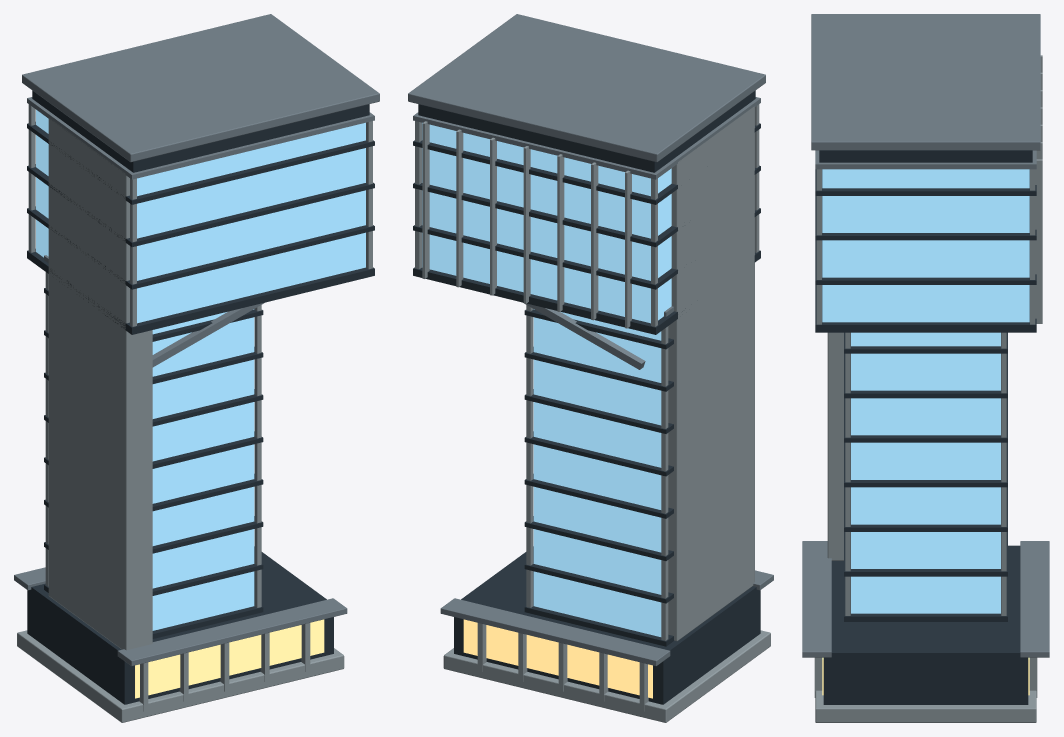
File: vrx_city_exchange_a_LOD0.fbx
The picture shows the model from 3 angles, left to right: view 1: azimuth 30°, elevation 25°; view 2: azimuth 150°, elevation 25°; view 3: azimuth 270°, elevation 25°; orthographic projection. The views are drawn at different scales.
Visible parts, largest first — view 1: vrx_city_exchange_a_LOD0; view 2: vrx_city_exchange_a_LOD0; view 3: vrx_city_exchange_a_LOD0.
Boxes of the visible parts, x1,y1,x2,y2 form: vrx_city_exchange_a_LOD0: [14, 14, 379, 722]; vrx_city_exchange_a_LOD0: [408, 14, 773, 722]; vrx_city_exchange_a_LOD0: [802, 14, 1049, 722].
Size of the model in its own units: 38 by 80.6 by 30.2.
